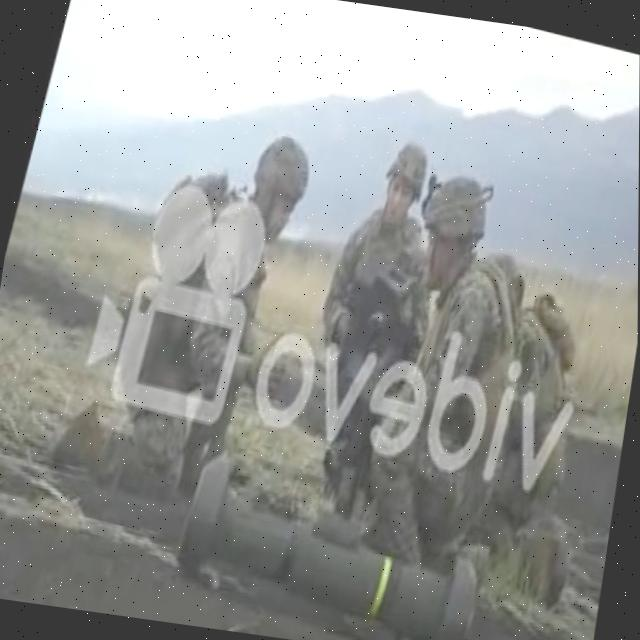rocket: (163, 450, 503, 640)
